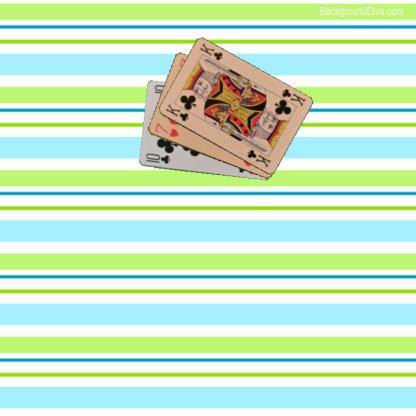10c: (143, 151, 172, 165)
7h: (152, 120, 180, 139)
Kc: (279, 86, 306, 108), (163, 101, 189, 123)
